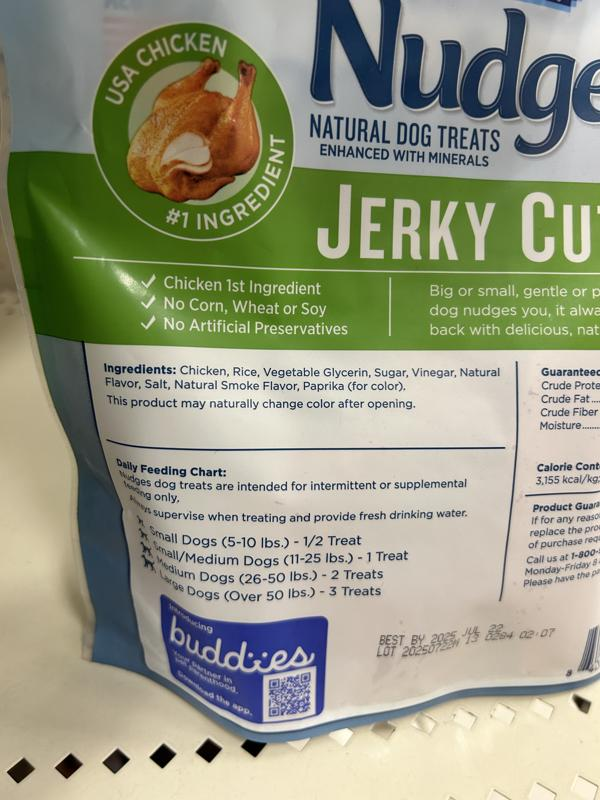ingredients: (99, 360, 502, 395)
